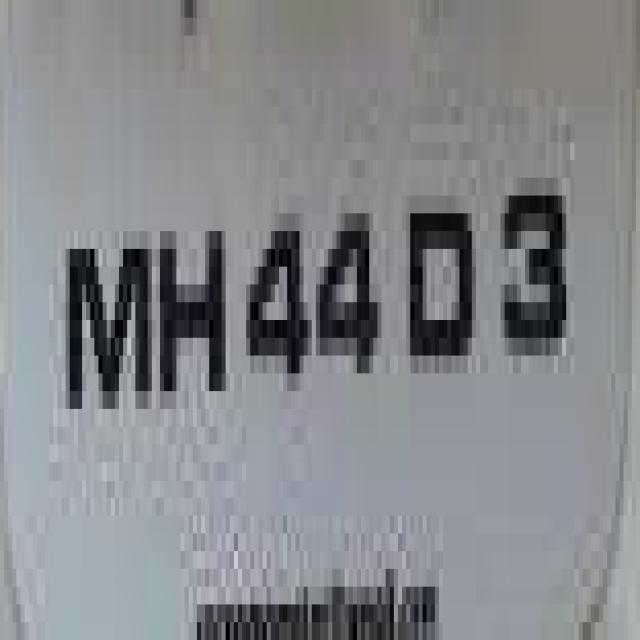license_plate: (8, 18, 599, 640)
